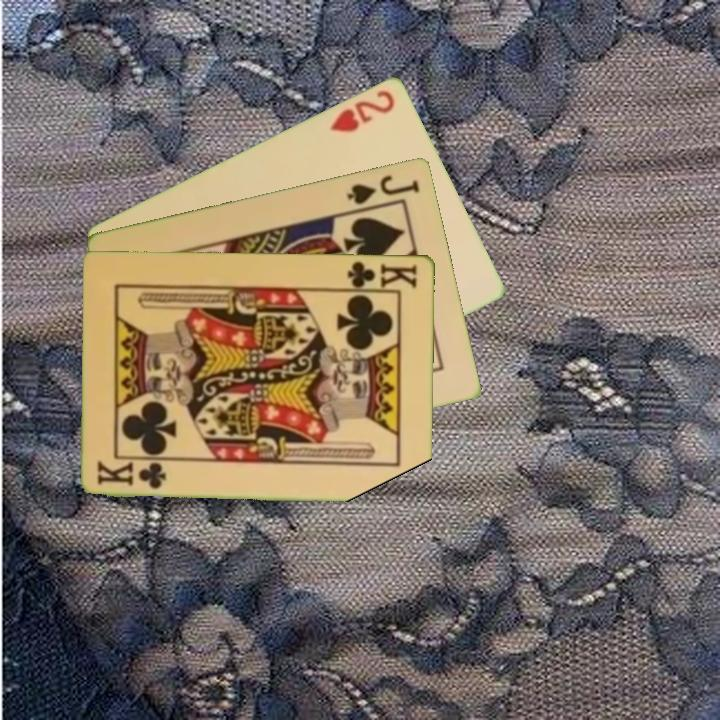2h: (326, 85, 398, 135)
Js: (343, 171, 423, 207)
Kc: (340, 258, 420, 292), (94, 459, 170, 491)
